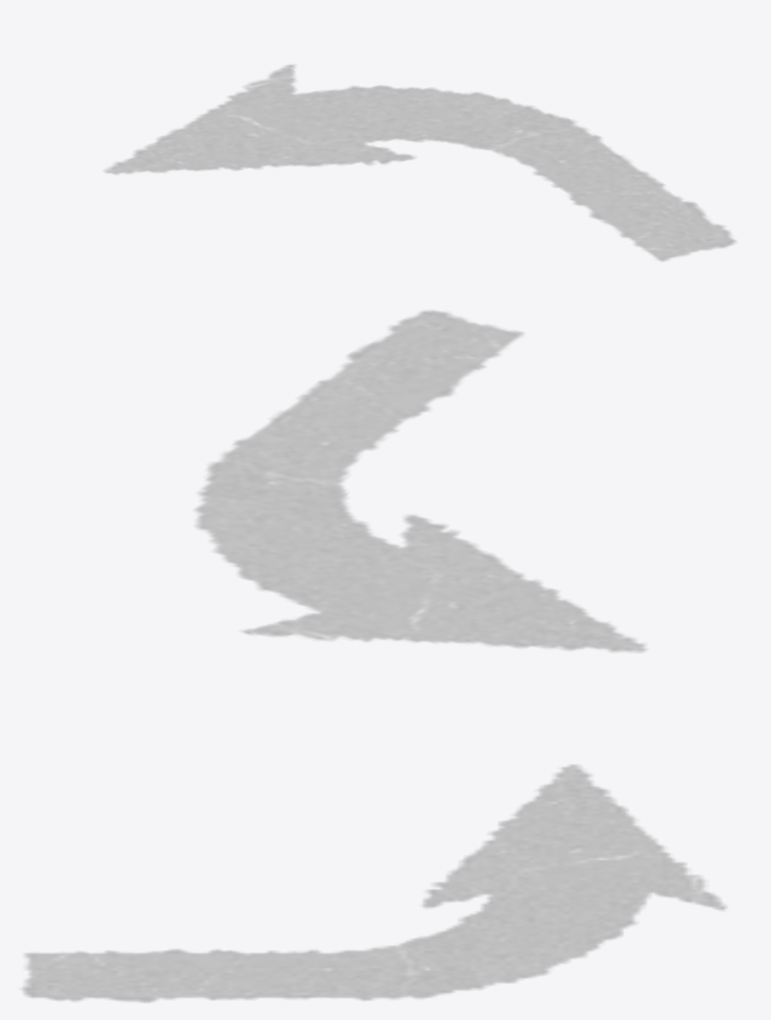
Rendered from Decal_ArrowTurnLeft.glb.
3 renders of one model, top to bottom at view 1: azimuth 30°, elevation 25°; view 2: azimuth 150°, elevation 25°; view 3: azimuth 270°, elevation 25°, orthographic. The views are drawn at different scales.
Visible parts, largest first — view 1: Decal_ArrowTurnLeft; view 2: Decal_ArrowTurnLeft; view 3: Decal_ArrowTurnLeft.
Part boxes in pixels (box(x1,y1,x2,y2)): Decal_ArrowTurnLeft: box(105, 64, 736, 261); Decal_ArrowTurnLeft: box(195, 310, 646, 651); Decal_ArrowTurnLeft: box(22, 764, 727, 1002).
Bounding box in the file's own units: 1.99 × 0 × 2.5.
1 material, 1 textured.
